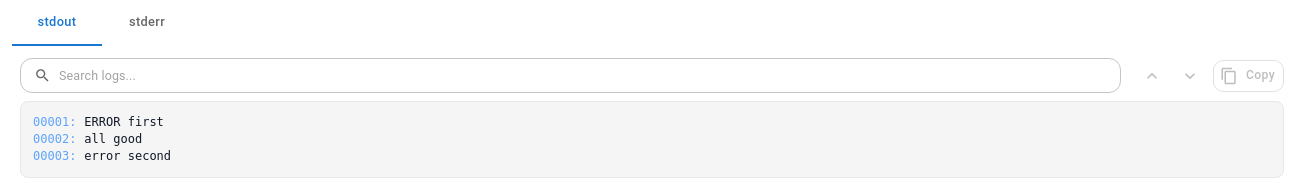
it: ProtocolLogsPanel › searches and highlights log text
The width and height of the screenshot is (1292, 195).
In the field labelled "Search logs...": (590, 76) [59,58,1121,93], type "error"
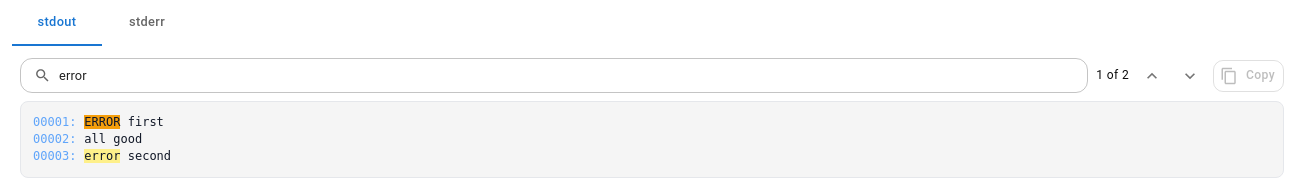
Result: the number of elements with test id "log-search-match" is 2 at [84,115,120,129]; [84,149,120,163]
Result: the text "1 of 2" is shown at [1096,66,1129,86]
